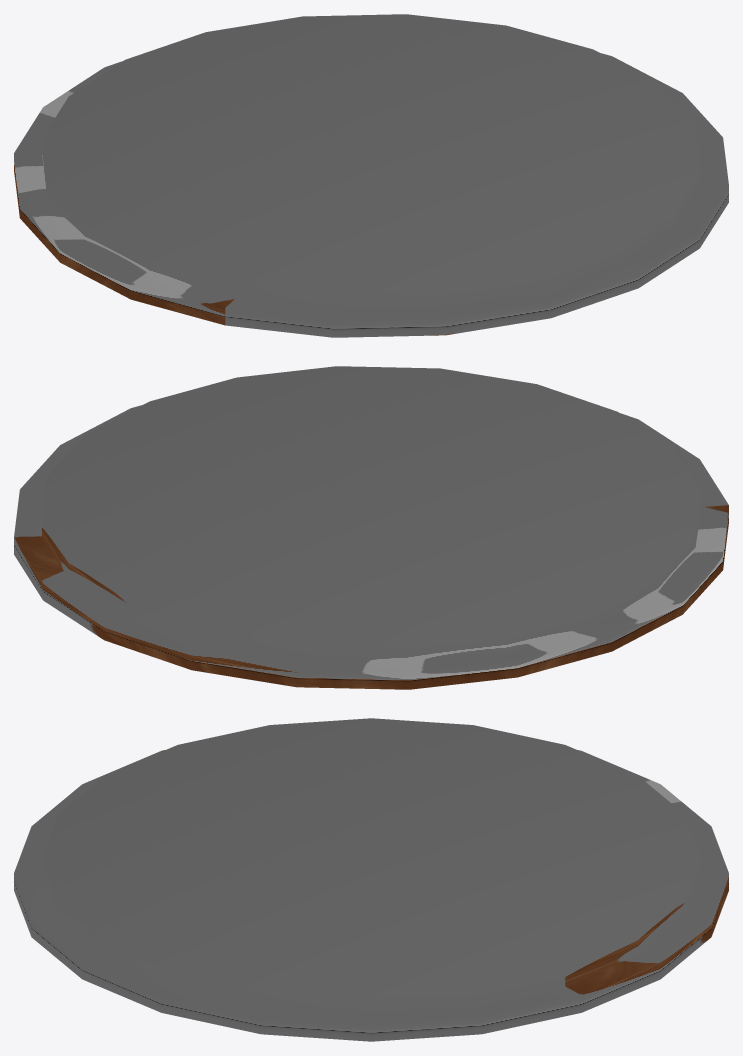
Rendered from Palco.fbx.
The picture shows the model from 3 angles, top to bottom: view 1: azimuth 30°, elevation 25°; view 2: azimuth 150°, elevation 25°; view 3: azimuth 270°, elevation 25°; orthographic projection.
Visible parts, largest first — view 1: pCylinder2; view 2: pCylinder2; view 3: pCylinder2.
Boxes of the visible parts, x1,y1,x2,y2 form: pCylinder2: (14, 14, 728, 337); pCylinder2: (14, 366, 728, 689); pCylinder2: (14, 718, 728, 1041).
Bounding box in the file's own units: 40 × 2.04 × 40.
